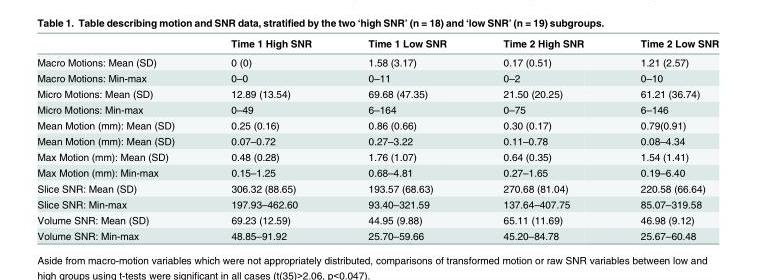table: (36, 36, 718, 241)
table column: (36, 36, 202, 241), (202, 36, 339, 241), (474, 36, 611, 241), (339, 36, 474, 241), (611, 36, 718, 241)
table column header: (36, 36, 718, 52)
table row: (36, 52, 718, 69), (36, 36, 718, 52), (36, 69, 718, 85), (36, 85, 718, 101), (36, 101, 718, 117), (36, 132, 718, 148), (36, 148, 718, 164), (36, 164, 718, 180), (36, 195, 718, 211), (36, 211, 718, 227), (36, 117, 718, 132), (36, 180, 718, 195), (36, 227, 718, 241)
